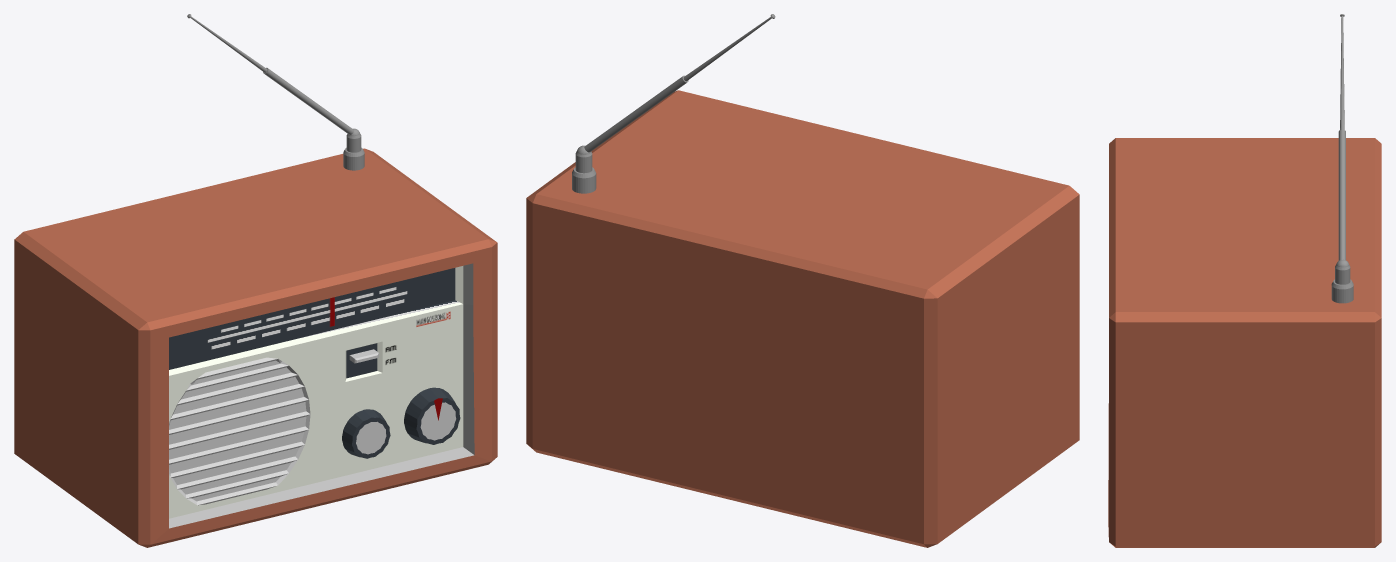
The model's file is radio.glb.
3 renders of one model, left to right at view 1: azimuth 30°, elevation 25°; view 2: azimuth 150°, elevation 25°; view 3: azimuth 270°, elevation 25°, orthographic. The views are drawn at different scales.
Parts seen in each view (by area): view 1: body, knob.big, antenna, knob.small; view 2: body, antenna; view 3: body, antenna.
Part boxes in pixels (x1,y1,x2,y2): body: [14, 148, 497, 547]; knob.big: [404, 387, 460, 444]; antenna: [187, 14, 364, 170]; knob.small: [342, 409, 390, 458]; body: [526, 90, 1079, 547]; antenna: [572, 14, 775, 193]; body: [1108, 138, 1381, 547]; antenna: [1331, 14, 1353, 303].
Bounding box in the file's own units: 1.72 × 1.91 × 1.08.
Materials: 2 (1 with a texture image).
